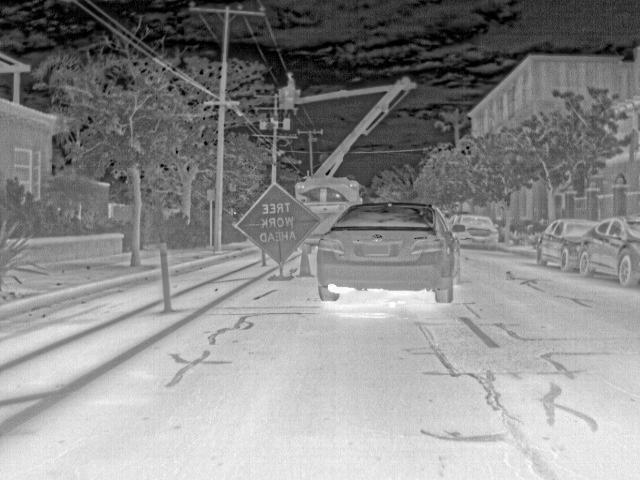car: (318, 200, 462, 302), (579, 212, 640, 288), (535, 217, 583, 273), (452, 214, 497, 248)
person: (284, 70, 298, 88)
